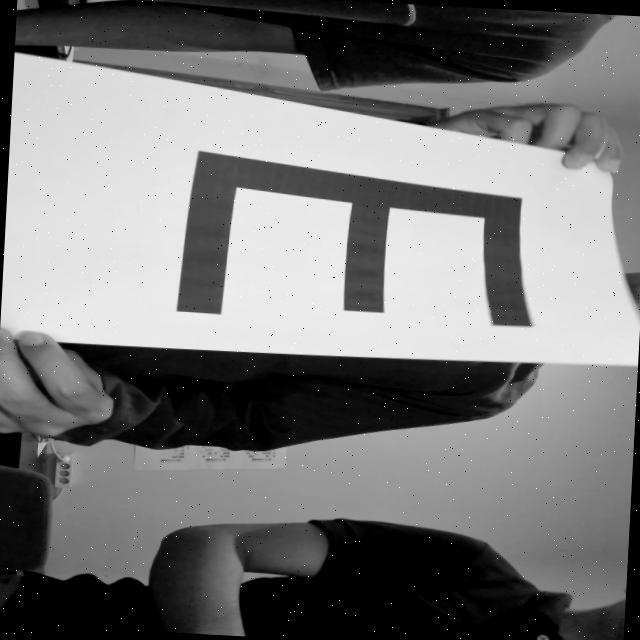e: (142, 139, 558, 346)
